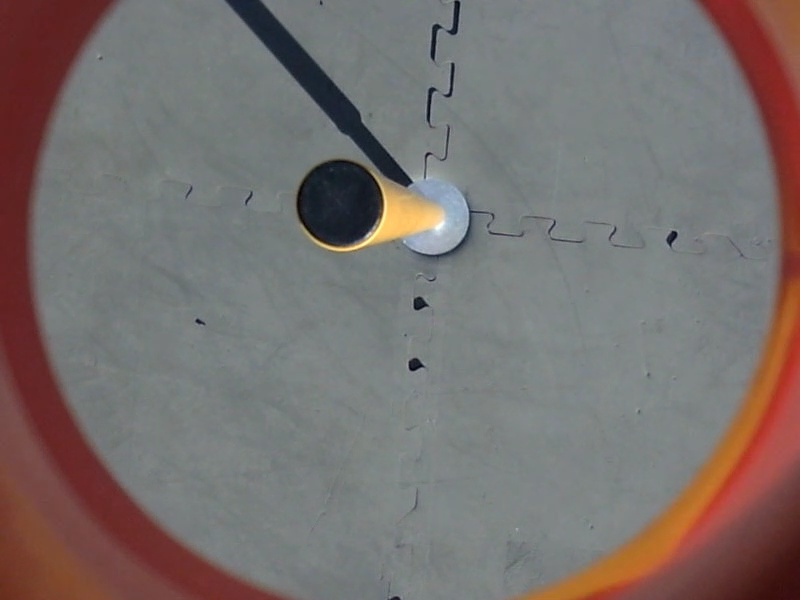tip: (286, 156, 392, 257)
